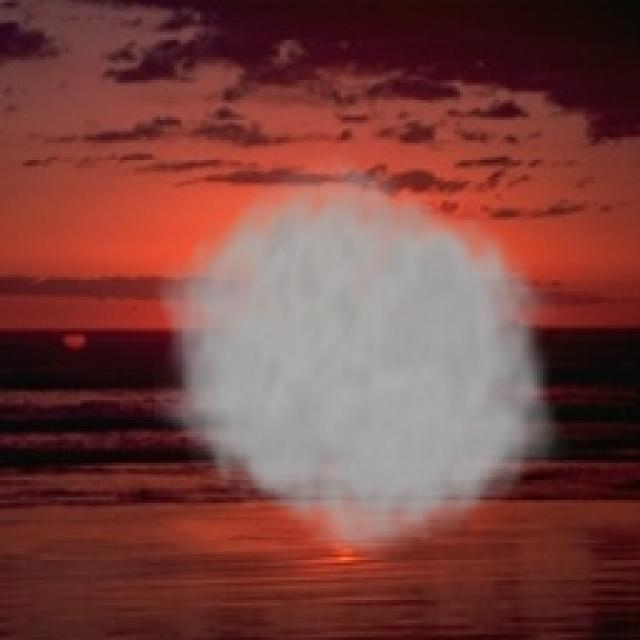Smoke: (155, 146, 574, 568)
